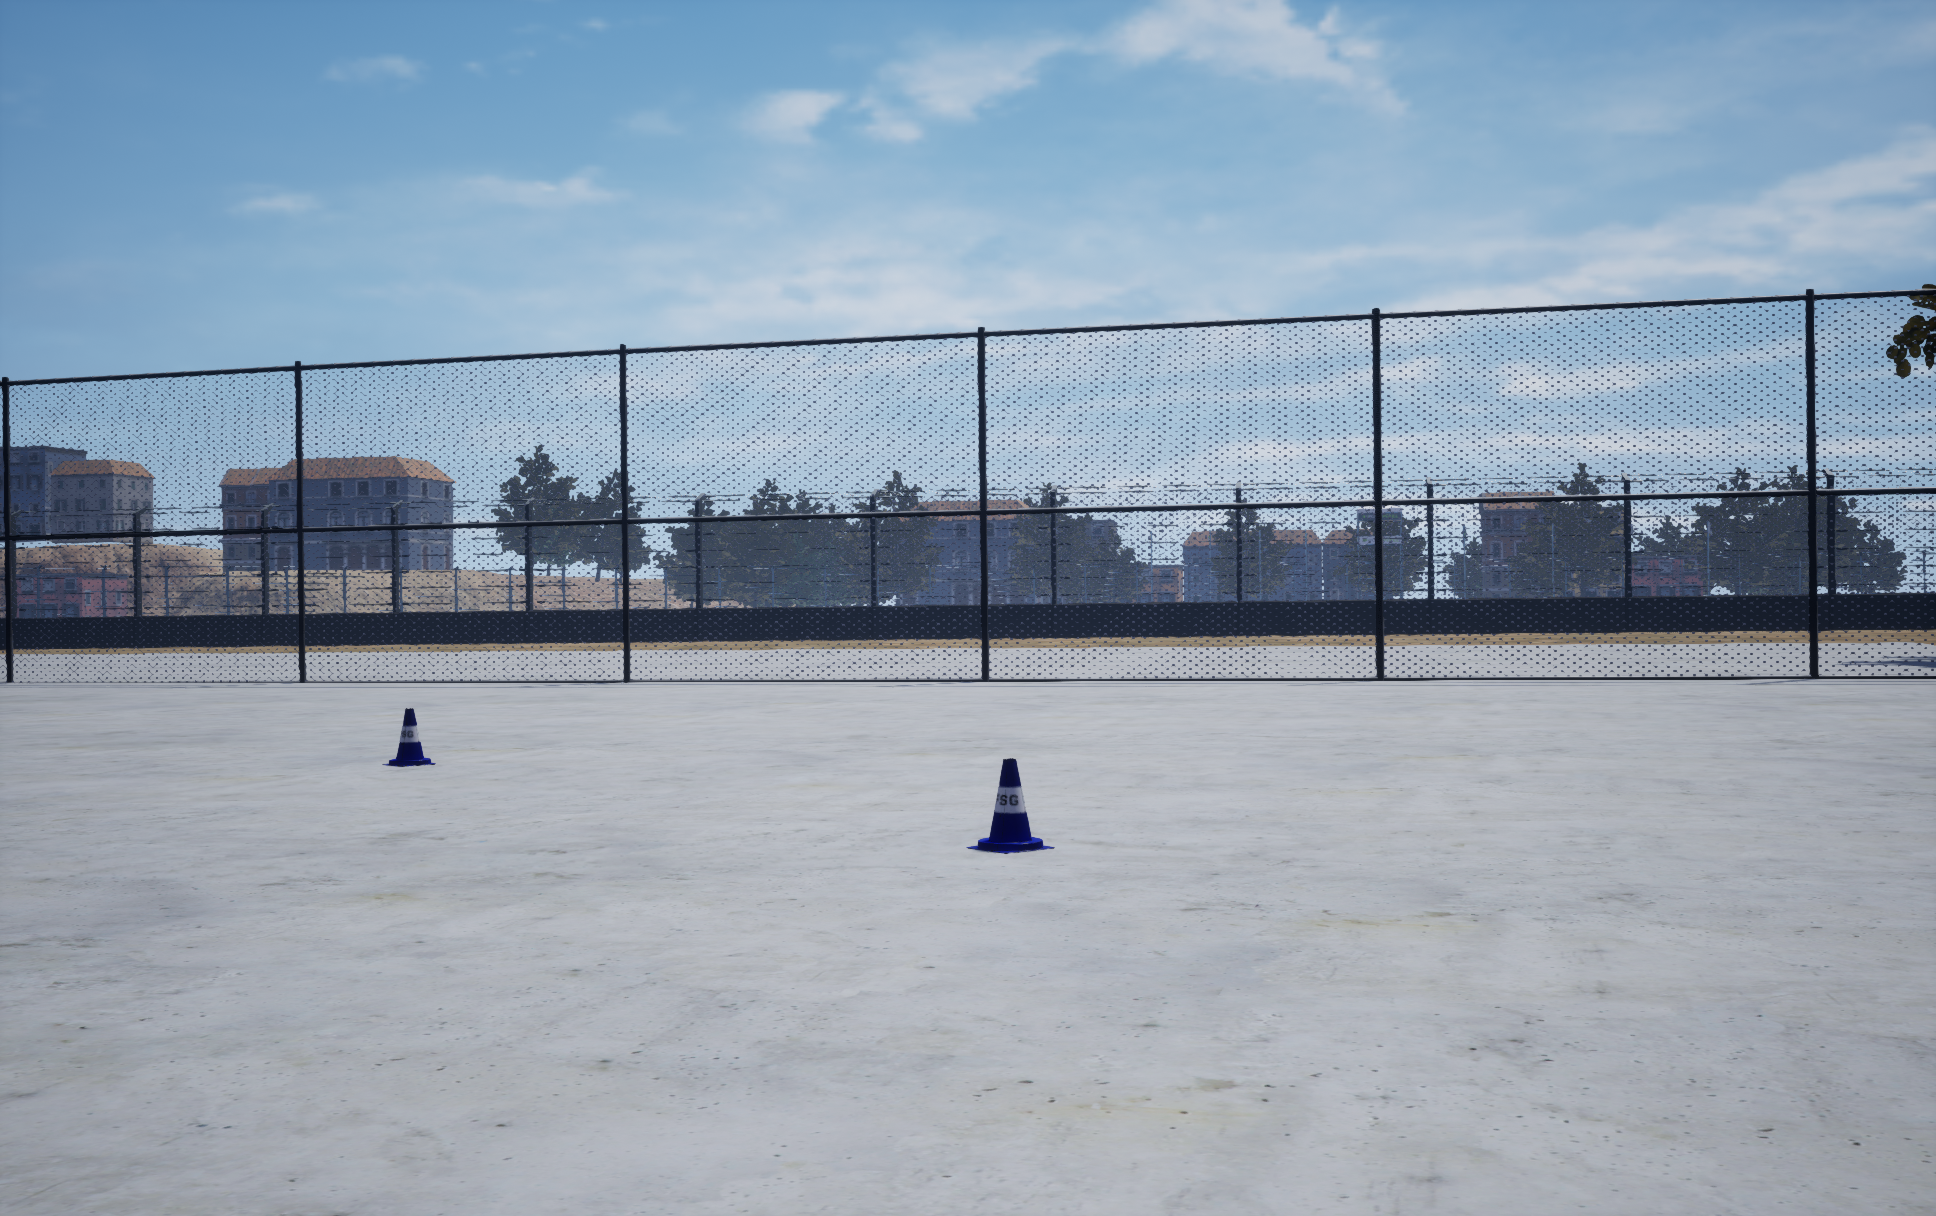yellow: (967, 758, 1053, 853), (382, 707, 436, 766)
